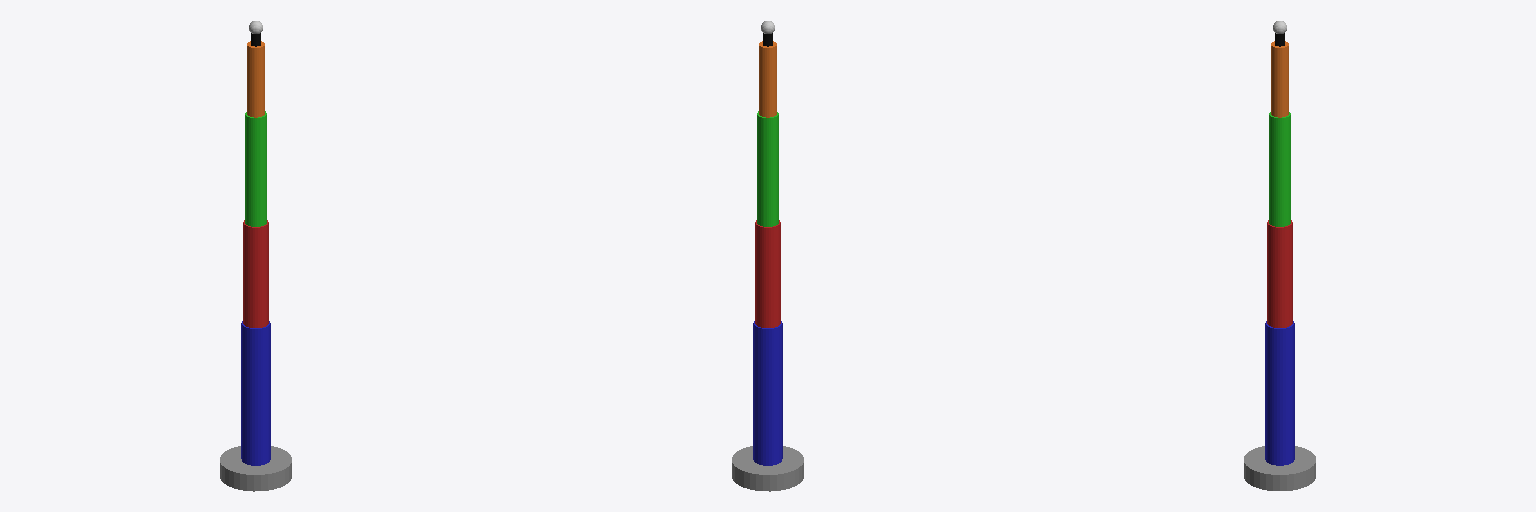
The robot description file, URDF, robot "crs_a465":
<?xml version="1.0"?>
<robot name="crs_a465">

  <!-- ===================== LINKS ===================== -->
  <link name="base_link">
    <visual>
      <geometry><cylinder length="0.05" radius="0.1"/></geometry>
      <material name="grey"><color rgba="0.6 0.6 0.6 1"/></material>
    </visual>
  </link>

  <link name="link1">
    <visual>
      <geometry><cylinder length="0.44" radius="0.04"/></geometry>
      <origin xyz="0 0 0.22"/>
      <material name="blue"><color rgba="0.2 0.2 0.8 1"/></material>
    </visual>
  </link>

  <link name="link2">
    <visual>
      <geometry><cylinder length="0.305" radius="0.035"/></geometry>
      <origin xyz="0 0 0.1525"/>
      <material name="red"><color rgba="0.8 0.2 0.2 1"/></material>
    </visual>
  </link>

  <link name="link3">
    <visual>
      <geometry><cylinder length="0.33" radius="0.03"/></geometry>
      <origin xyz="0 0 0.165"/>
      <material name="green"><color rgba="0.2 0.8 0.2 1"/></material>
    </visual>
  </link>

  <link name="link4">
    <visual>
      <geometry><cylinder length="0.211" radius="0.025"/></geometry>
      <origin xyz="0 0 0.1055"/>
      <material name="orange"><color rgba="0.9 0.5 0.2 1"/></material>
    </visual>
  </link>

  <link name="tool_link">
    <visual>
      <geometry><cylinder length="0.05" radius="0.015"/></geometry>
      <origin xyz="0 0 0.025"/>
      <material name="black"><color rgba="0.1 0.1 0.1 1"/></material>
    </visual>
  </link>

  <!-- ===================== JOINTS ===================== -->

  <!-- joint1 : +z axis -->
  <joint name="joint1" type="revolute">
    <parent link="base_link"/>
    <child  link="link1"/>
    <origin xyz="0 0 0"/>
    <axis xyz="0 0 1"/> <!-- + direction -->
    <limit lower="-3.054" upper="3.054" effort="50" velocity="2"/>
  </joint>

  <!-- joint2 : -y axis -->
  <joint name="joint2" type="revolute">
    <parent link="link1"/>
    <child  link="link2"/>
    <origin xyz="0 0 0.44"/>
    <axis xyz="0 -1 0"/> <!-- direction = -1 -->
    <limit lower="-1.571" upper="1.571" effort="50" velocity="2"/>
  </joint>

  <!-- joint3 : -y axis -->
  <joint name="joint3" type="revolute">
    <parent link="link2"/>
    <child  link="link3"/>
    <origin xyz="0 0 0.305"/>
    <axis xyz="0 -1 0"/> <!-- direction = -1 -->
    <limit lower="-1.919" upper="1.919" effort="50" velocity="2"/>
  </joint>

  <!-- joint4 : +x axis -->
  <joint name="joint4" type="revolute">
    <parent link="link3"/>
    <child  link="link4"/>
    <origin xyz="0 0 0.33"/>
    <axis xyz="1 0 0"/> <!-- direction = +1 -->
    <limit lower="-3.142" upper="3.142" effort="30" velocity="3"/>
  </joint>

  <!-- joint5 : -y axis -->
  <joint name="joint5" type="revolute">
    <parent link="link4"/>
    <child  link="tool_link"/>
    <origin xyz="0 0 0.211"/>
    <axis xyz="0 -1 0"/> <!-- direction = -1 -->
    <limit lower="-1.833" upper="1.833" effort="20" velocity="3"/>
  </joint>

  <!-- joint6 : +x axis -->
  <joint name="joint6" type="revolute">
    <parent link="tool_link"/>
    <child  link="end_effector"/>
    <origin xyz="0 0 0.05"/>
    <axis xyz="1 0 0"/> <!-- direction = +1 -->
    <limit lower="-3.142" upper="3.142" effort="10" velocity="3"/>
  </joint>

  <!-- dummy end effector -->
  <link name="end_effector">
    <visual>
      <geometry><sphere radius="0.02"/></geometry>
      <material name="silver"><color rgba="0.8 0.8 0.8 1"/></material>
    </visual>
  </link>

</robot>

--- Facts derived from the render (not from the file) ---
Views: 3 orthographic renders of the robot side by side, from view 1: azimuth 30°, elevation 25°; view 2: azimuth 150°, elevation 25°; view 3: azimuth 270°, elevation 25°.
Robot: crs_a465 — 7 links, 6 joints (6 revolute); root link base_link; default pose: all joints at 0.
Links seen in each view (by area): view 1: link1, link2, link3, base_link, link4; view 2: link1, link2, link3, base_link, link4; view 3: link1, link2, link3, base_link, link4.
Boxes of the visible links, x1=… form: link1: x1=241, y1=321, x2=270, y2=465; link2: x1=243, y1=220, x2=268, y2=327; link3: x1=245, y1=111, x2=266, y2=226; base_link: x1=220, y1=446, x2=291, y2=491; link4: x1=247, y1=41, x2=264, y2=117; link1: x1=753, y1=321, x2=782, y2=465; link2: x1=755, y1=220, x2=780, y2=327; link3: x1=757, y1=111, x2=778, y2=226; base_link: x1=732, y1=446, x2=803, y2=491; link4: x1=759, y1=41, x2=776, y2=117; link1: x1=1265, y1=321, x2=1294, y2=465; link2: x1=1267, y1=220, x2=1292, y2=327; link3: x1=1269, y1=112, x2=1290, y2=226; base_link: x1=1244, y1=446, x2=1315, y2=490; link4: x1=1271, y1=41, x2=1288, y2=117.
Size in the robot's own frame: 0.2 by 0.2 by 1.38 metres.
Geometry: primitives only (box / cylinder / sphere), no mesh files.
